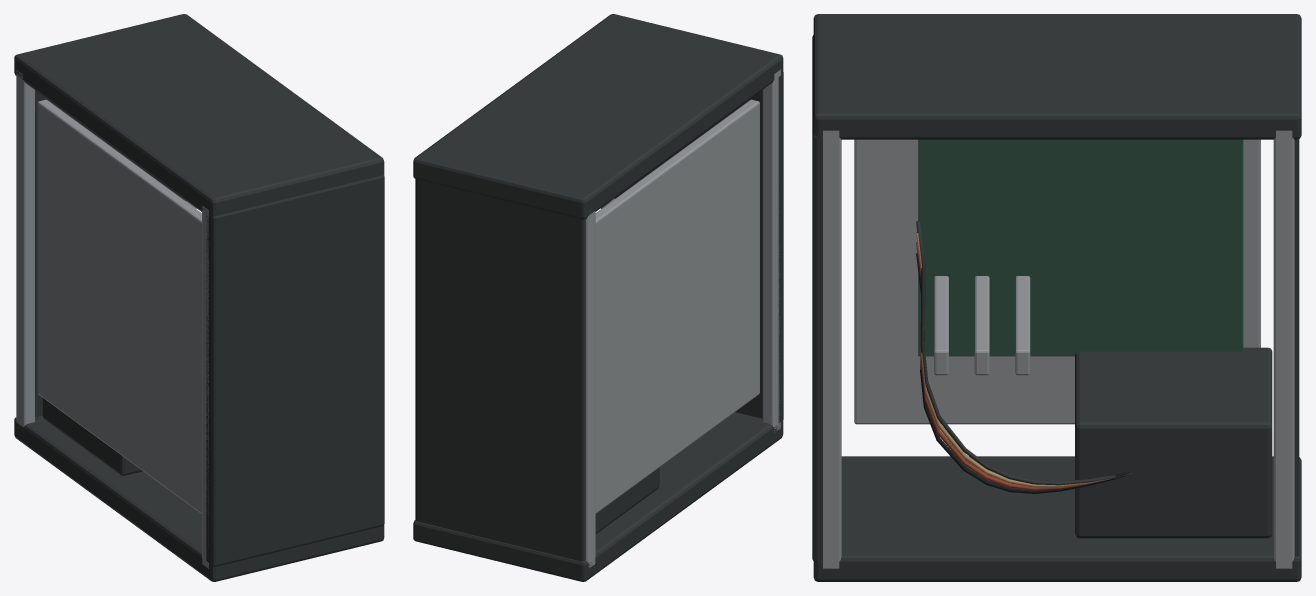
The picture shows the model from 3 angles, left to right: view 1: azimuth 30°, elevation 25°; view 2: azimuth 150°, elevation 25°; view 3: azimuth 270°, elevation 25°; orthographic projection. The views are drawn at different scales.
Visible parts, largest first — view 1: Top bottom chassis, Corner chassis rail; view 2: Top bottom chassis, Corner chassis rail; view 3: Top bottom chassis, Unmarked board, Corner chassis rail, Visible insulated harness 0, Visible insulated harness 2, Visible insulated harness 1.
Part boxes in pixels (bbox=[...]): Top bottom chassis: bbox=[14, 14, 384, 581]; Corner chassis rail: bbox=[16, 70, 208, 568]; Top bottom chassis: bbox=[413, 14, 783, 581]; Corner chassis rail: bbox=[415, 69, 780, 568]; Top bottom chassis: bbox=[812, 14, 1301, 581]; Unmarked board: bbox=[918, 139, 1243, 356]; Corner chassis rail: bbox=[822, 130, 1294, 568]; Visible insulated harness 0: bbox=[916, 253, 1131, 493]; Visible insulated harness 2: bbox=[916, 232, 1131, 487]; Visible insulated harness 1: bbox=[916, 242, 1130, 490].
Bounding box in the file's own units: 0.21 × 0.4475 × 0.421.
